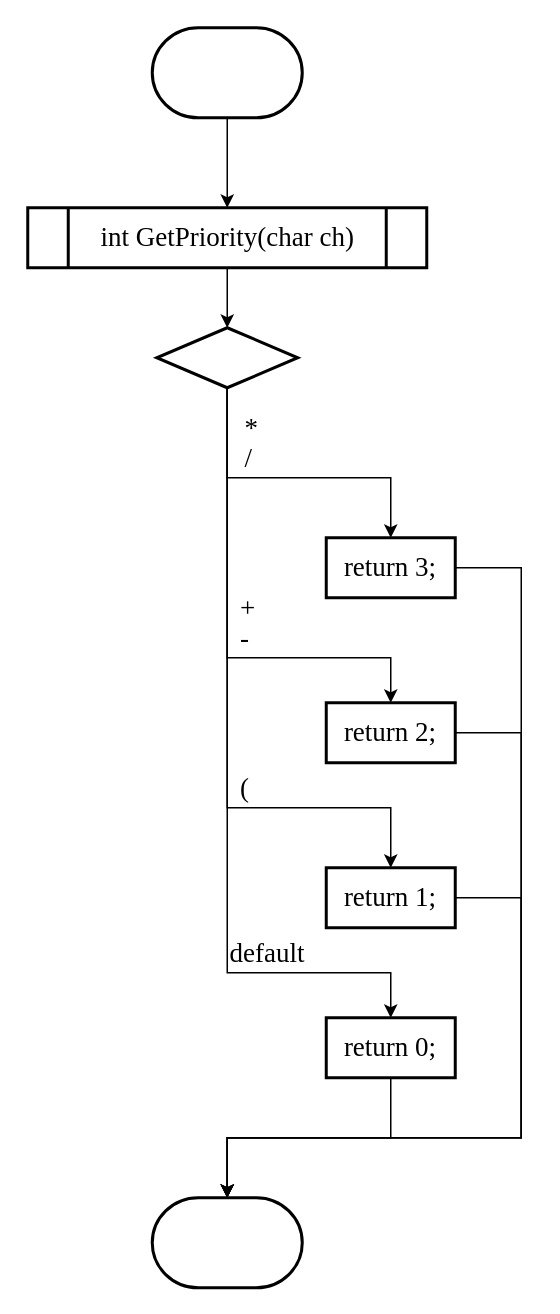
The diagram is 560 pixels wide and 1314 high, and some of its shapes have lost their labels. The centre of each missing label's shape, as x and y in pixels:
(ch): pixel 226 357
Конец: pixel 226 1242
Начало: pixel 226 72
